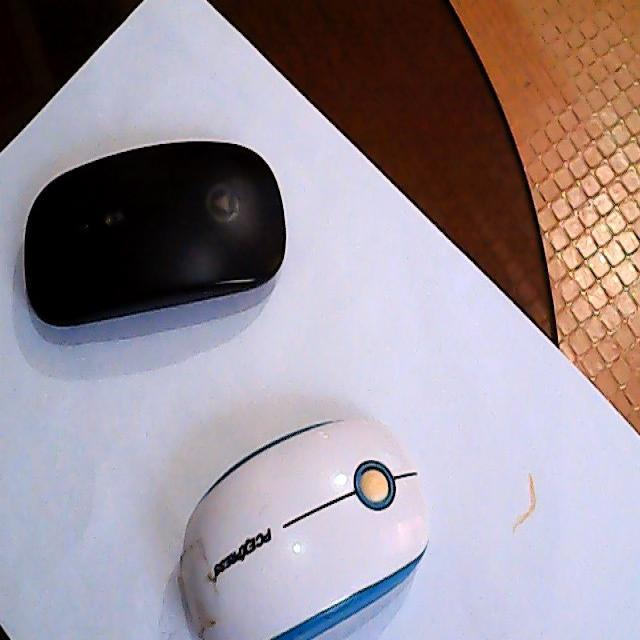Mouse: (178, 414, 436, 640), (23, 136, 288, 326)
